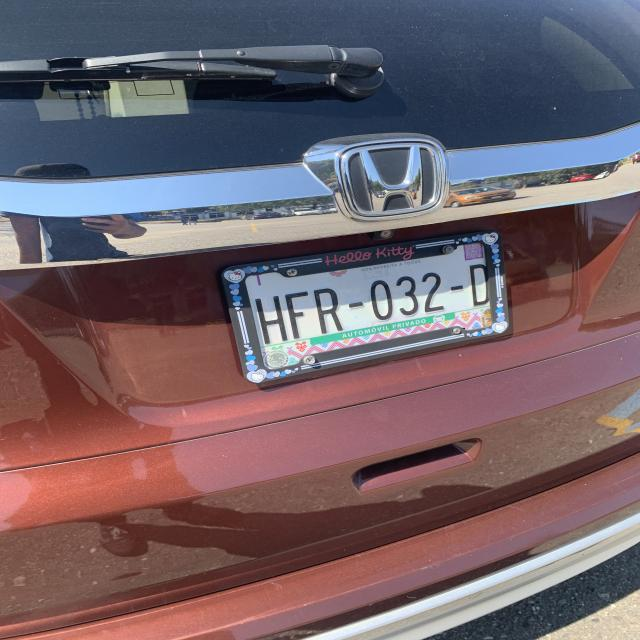placa: (246, 258, 520, 336)
